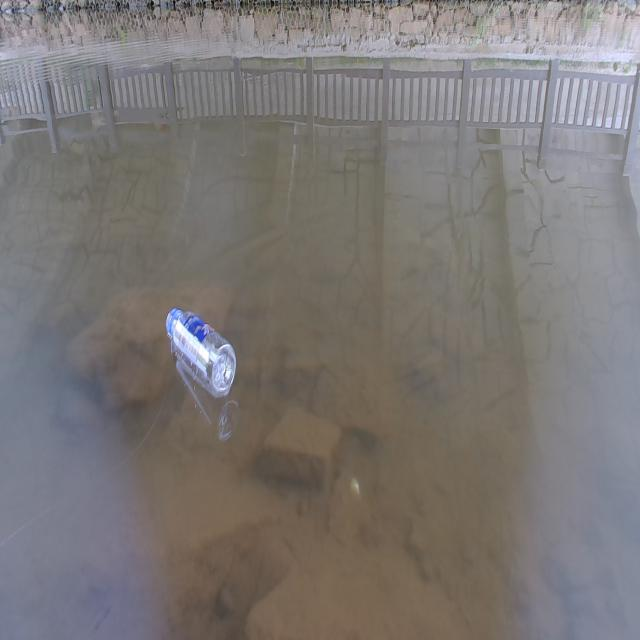Bottle: (163, 304, 237, 392)
